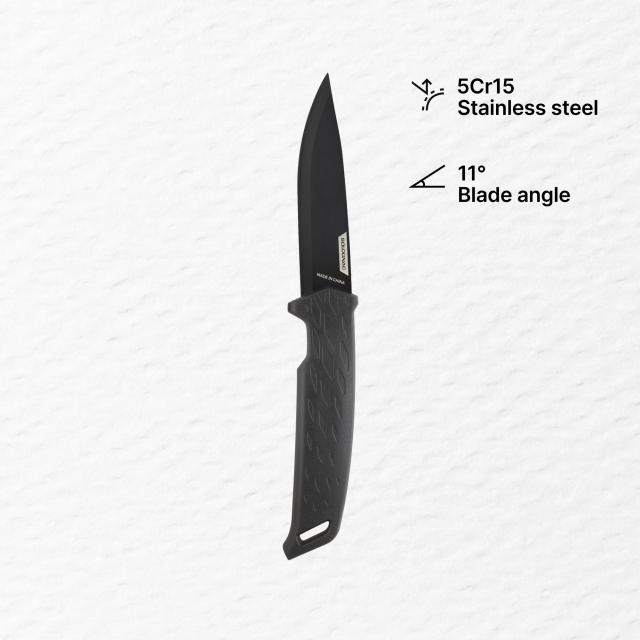Knife: (256, 65, 372, 572)
